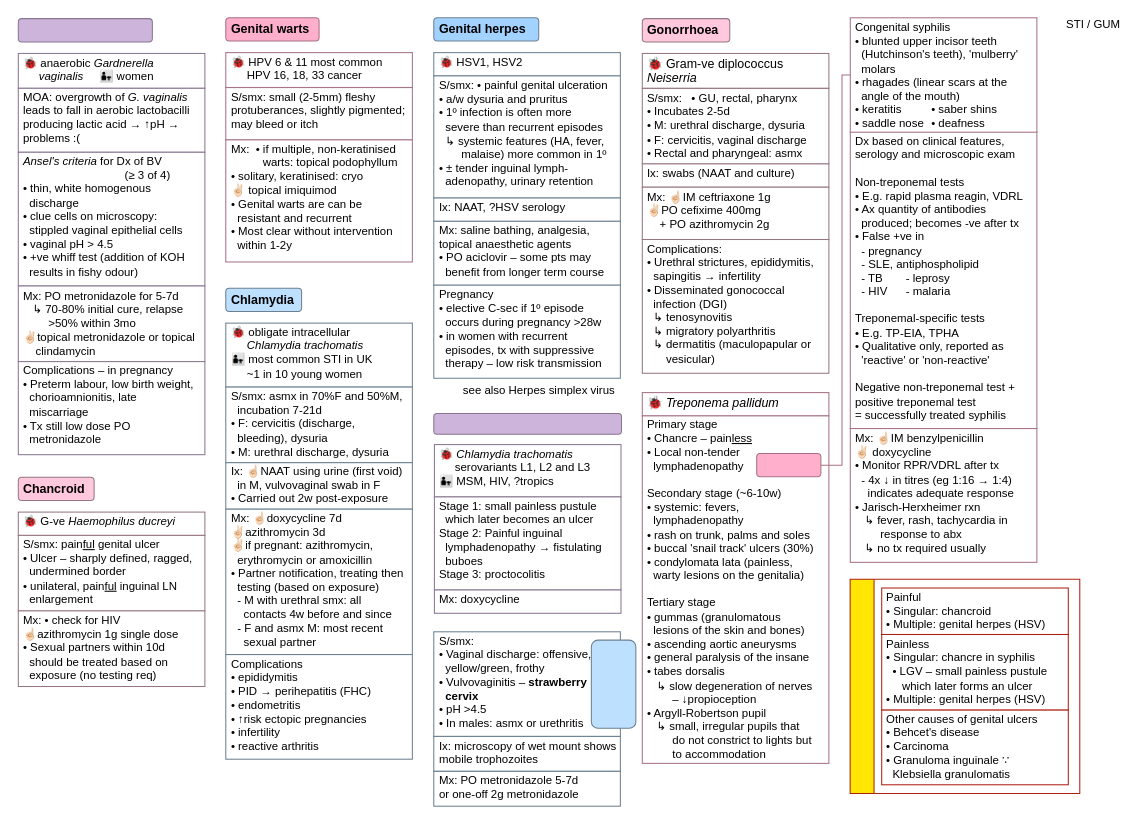
This 1139x826 diagram has some shape labels left out. The shapes that lost their labels are listed below. From the top down, each one's box as (x1, y1, x2, y2) in pixels, then its label:
(17, 18, 152, 42): Bacterial vaginosis
(433, 412, 622, 434): Lymphogranuloma venereum
(756, 453, 821, 477): Syphilis
(590, 639, 636, 728): Trichomonas vaginalis
(849, 578, 1080, 794): STI: ulcers
